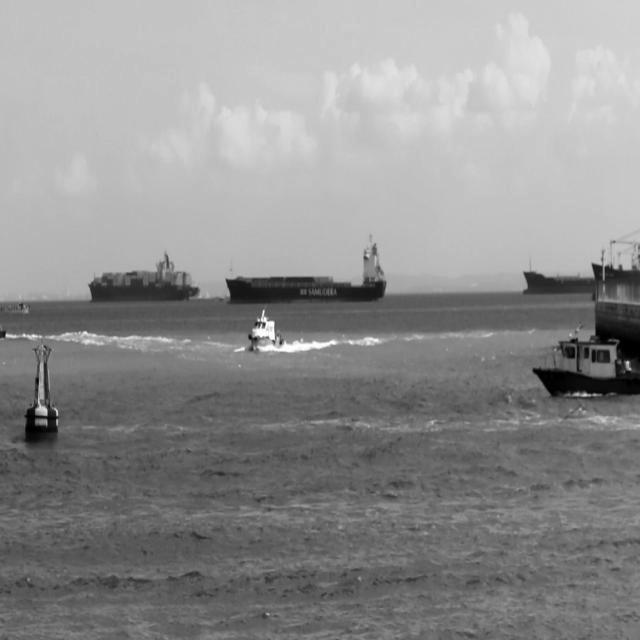buoy: (24, 340, 60, 434)
ship: (225, 231, 387, 306), (533, 319, 640, 398), (88, 250, 200, 304), (522, 255, 596, 295), (248, 308, 286, 352), (5, 300, 31, 316), (1, 318, 8, 340)
